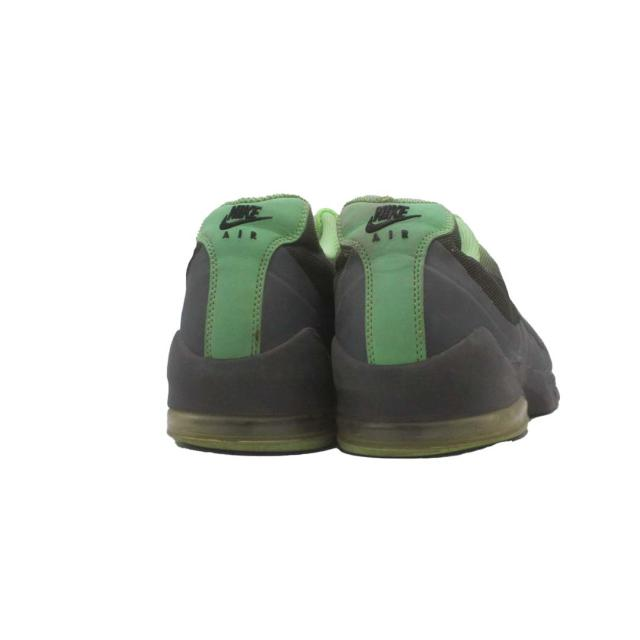heel: (177, 197, 326, 359), (331, 200, 481, 360)
midsole: (332, 333, 553, 452), (165, 332, 332, 447)
